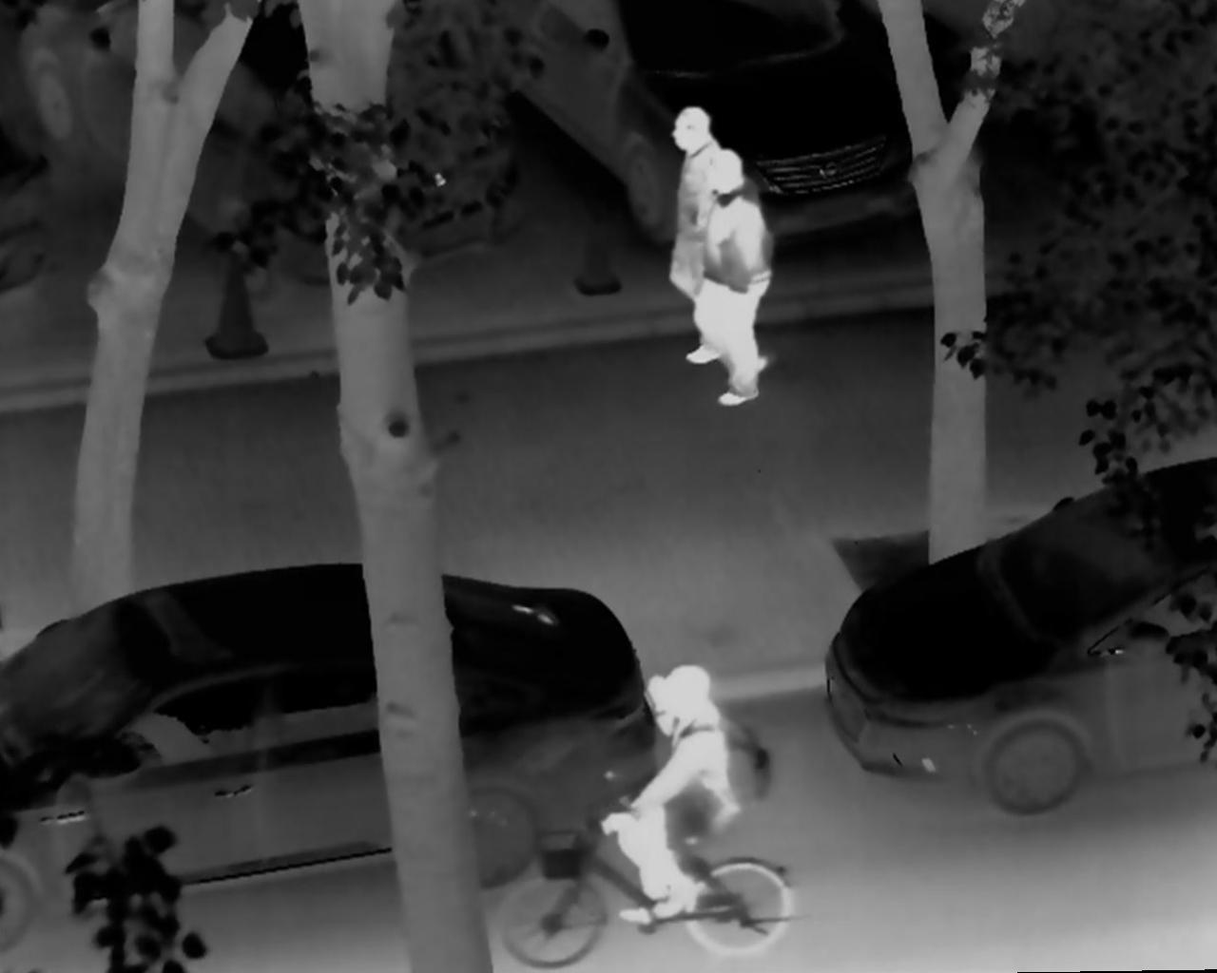person: (586, 662, 744, 925), (657, 100, 770, 372), (674, 143, 777, 410)
